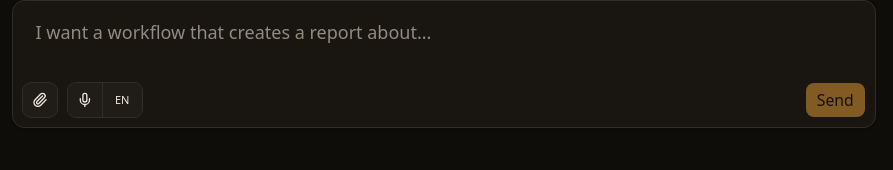
Test: voice input › shows the one-time model download while it happens
Later steps or results of the test are not shown.
Click the button named "Record a voice message" at [85, 100], box [67,82,103,118]
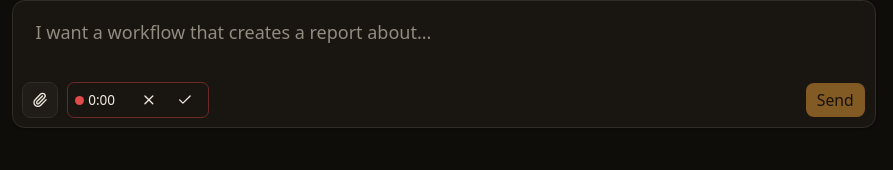
Click the button named "Stop and transcribe" at [185, 100], box [169,84,201,116]
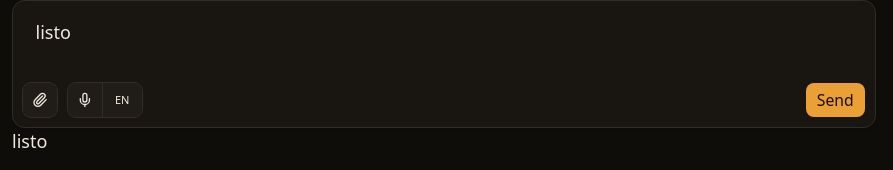
Expected: the text with test id "input" reads "listo", [12,129,47,153]
